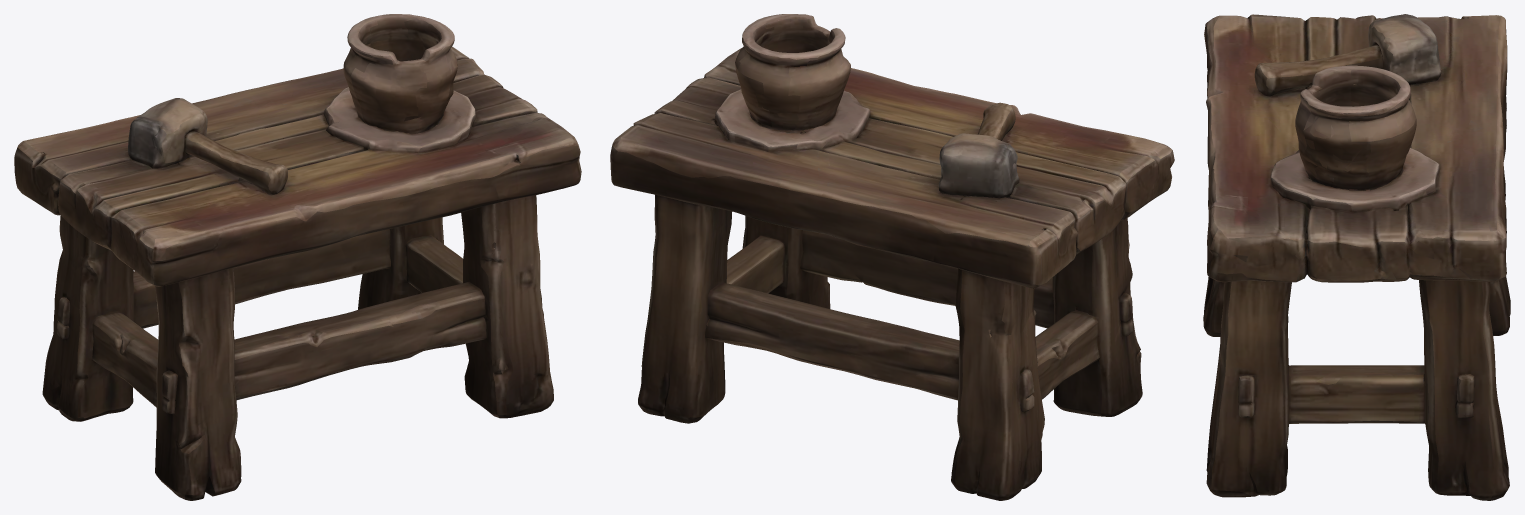
The model's file is env_workbench.glb.
The picture shows the model from 3 angles, left to right: view 1: azimuth 30°, elevation 25°; view 2: azimuth 150°, elevation 25°; view 3: azimuth 270°, elevation 25°; orthographic projection. The views are drawn at different scales.
Visible parts, largest first — view 1: world; view 2: world; view 3: world.
Part boxes in pixels (box(x1,y1,x2,y2)): world: box(14, 14, 581, 500); world: box(610, 14, 1174, 500); world: box(1203, 14, 1510, 500).
Bounding box in the file's own units: 1.2 × 0.9226 × 0.6938.
1 material, 1 textured.
